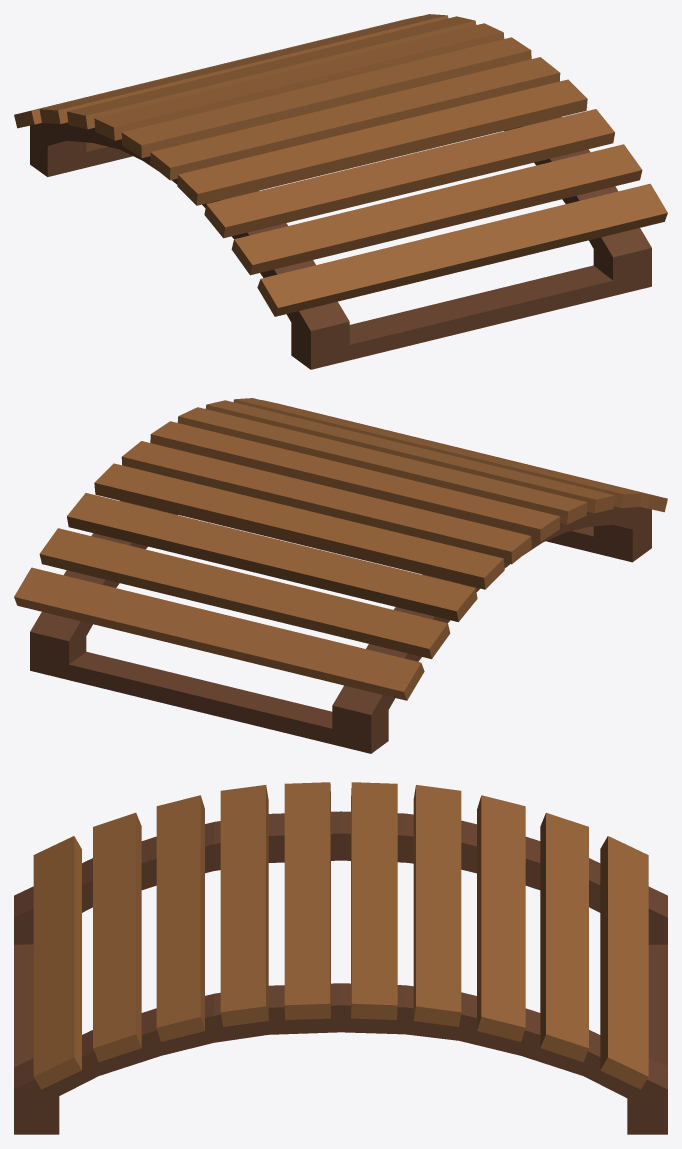
Rendered from Bridge_2_Flat.fbx.
3 renders of one model, top to bottom at view 1: azimuth 30°, elevation 25°; view 2: azimuth 150°, elevation 25°; view 3: azimuth 270°, elevation 25°, orthographic. The views are drawn at different scales.
Visible parts, largest first — view 1: Bridge_2_Flat; view 2: Bridge_2_Flat; view 3: Bridge_2_Flat.
Boxes of the visible parts, bbox=[...] form: Bridge_2_Flat: bbox=[14, 14, 667, 369]; Bridge_2_Flat: bbox=[14, 398, 667, 753]; Bridge_2_Flat: bbox=[14, 782, 667, 1134].
Size of the model in its own units: 0.8 by 0.244 by 0.998.
